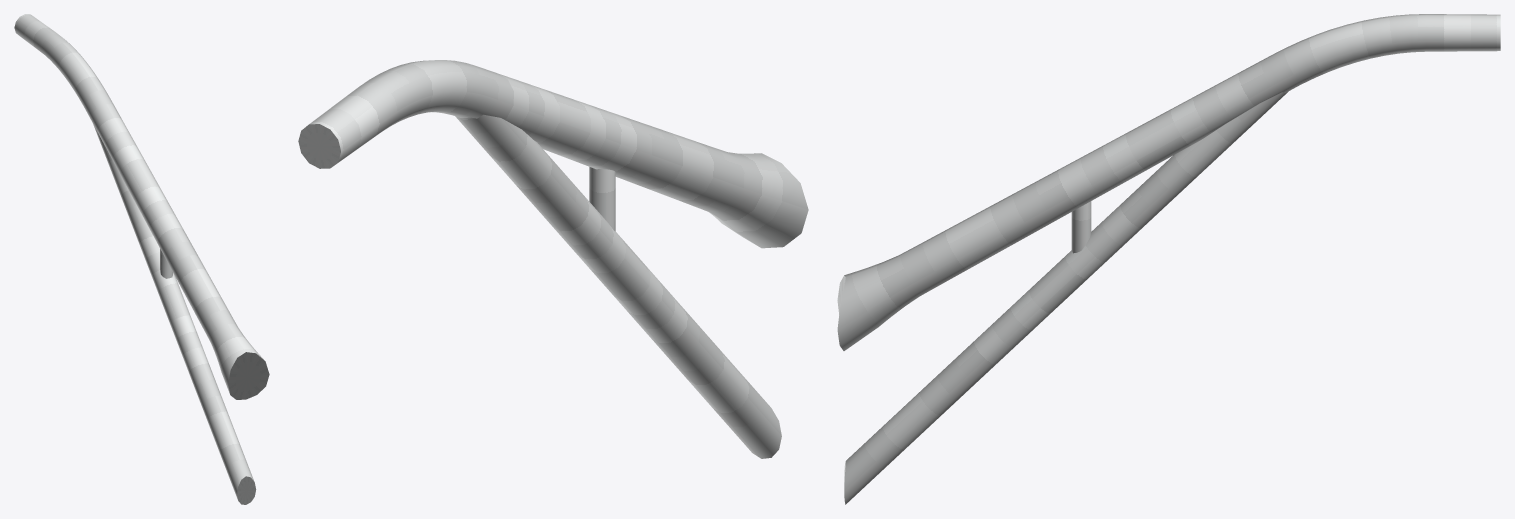
File: luminairearm_truss8ftstraight_inv.obj
3 renders of one model, left to right at view 1: azimuth 30°, elevation 25°; view 2: azimuth 150°, elevation 25°; view 3: azimuth 270°, elevation 25°, orthographic. The views are drawn at different scales.
Visible parts, largest first — view 1: luminairearm_truss8ftstraight_inv; view 2: luminairearm_truss8ftstraight_inv; view 3: luminairearm_truss8ftstraight_inv.
Boxes of the visible parts, x1,y1,x2,y2 form: luminairearm_truss8ftstraight_inv: [14, 14, 269, 504]; luminairearm_truss8ftstraight_inv: [298, 60, 808, 458]; luminairearm_truss8ftstraight_inv: [837, 14, 1500, 504].
Bounding box in the file's own units: 0.1067 × 0.8126 × 1.
